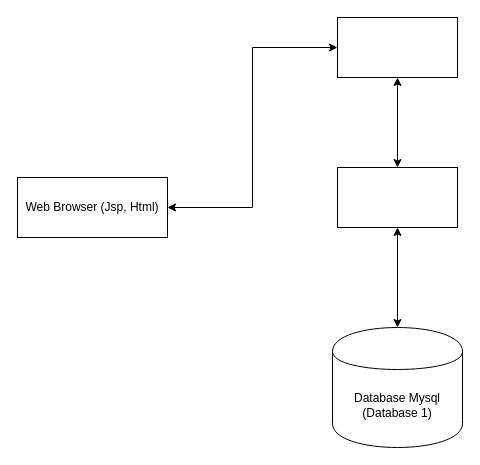
Some shapes in this 480 by 465 pixel diagram are drawn without their labels. Each missing label, with the box of its shape:
Http Server: (336, 16, 458, 78)
Servlet Programs(Login, Insert Data, Retrieve Data): (336, 166, 458, 228)
